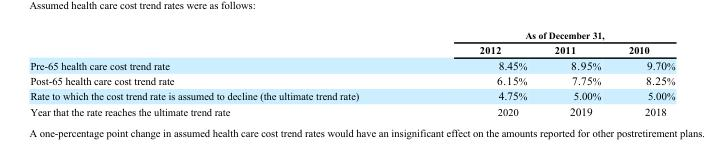table: (29, 29, 674, 117)
table column: (29, 29, 418, 117), (418, 29, 540, 117), (540, 29, 614, 117), (614, 29, 674, 117)
table column header: (29, 29, 674, 57)
table row: (29, 41, 674, 57), (29, 87, 674, 103), (29, 57, 674, 72), (29, 72, 674, 87), (29, 103, 674, 117), (29, 29, 674, 41)
table spanning cell: (418, 29, 674, 41)
